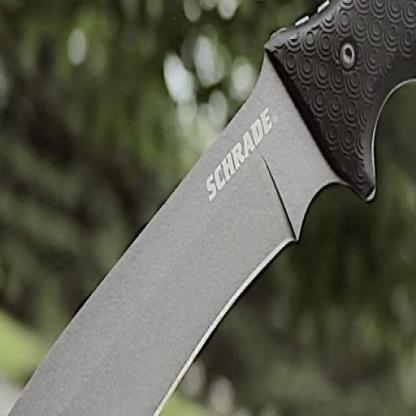knife: (0, 0, 391, 415)
